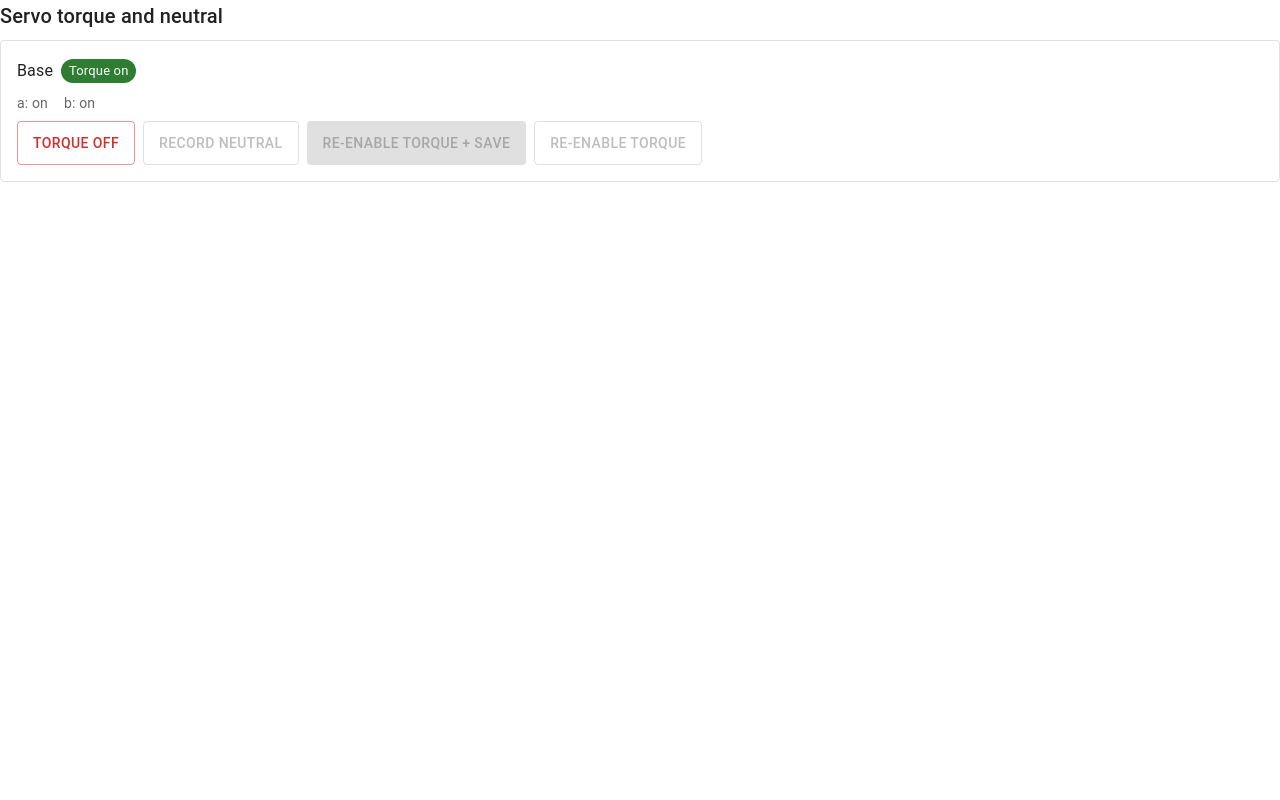
it: ServoNeutral › Torque off on base confirms with the exact text then releases
Expected: the element "Base" is shown, [0,40,1279,182]
What coordinates should you click on to do the following:
click the button "Torque off"
I would click on:
 (76, 143)
Its box is [17,121,135,165].
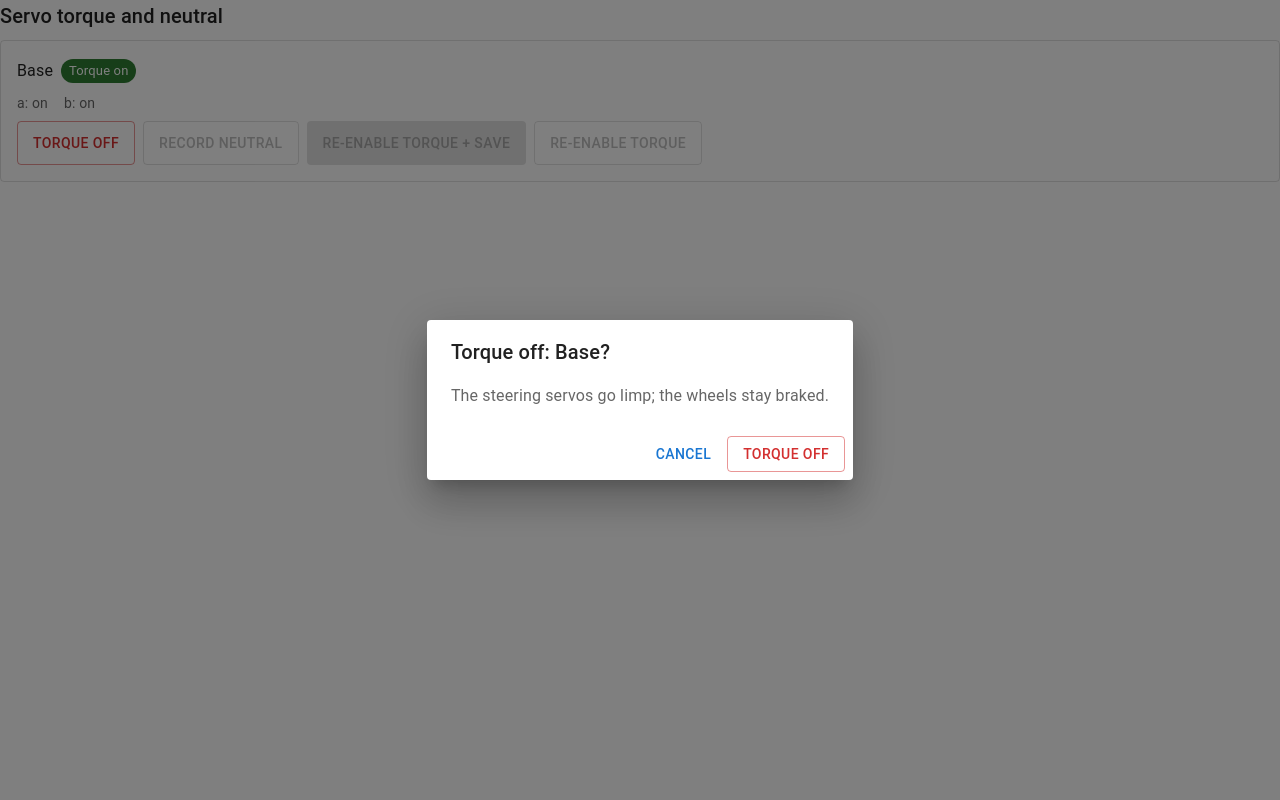
Expected: the text "The steering servos go limp; the wheels stay braked." is shown, [451,384,829,408]
